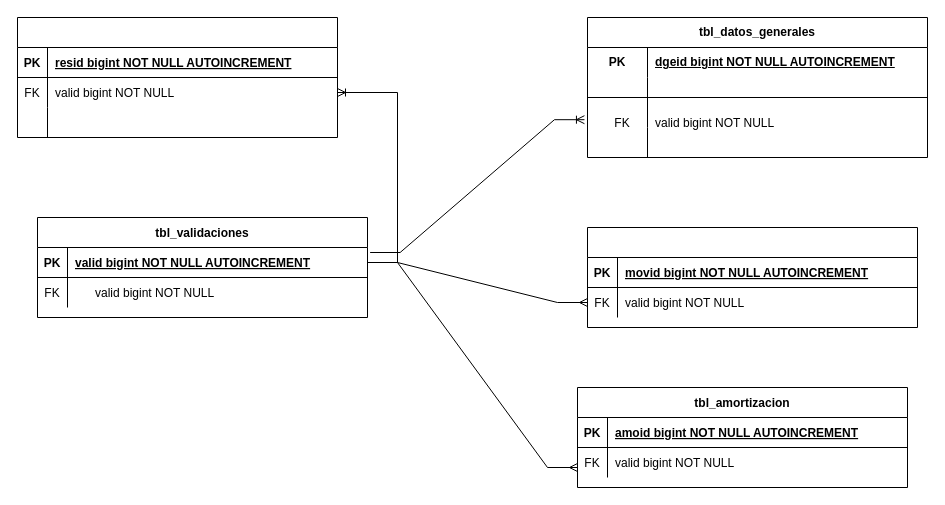
The diagram is 945 pixels wide and 505 high, and some of its shapes have lost their labels. The box of each missing label's shape, as (x1, y1, x2, y2) in pixels:
tbl_movimientos: (586, 226, 918, 328)
tbl_resultados: (16, 16, 338, 138)
